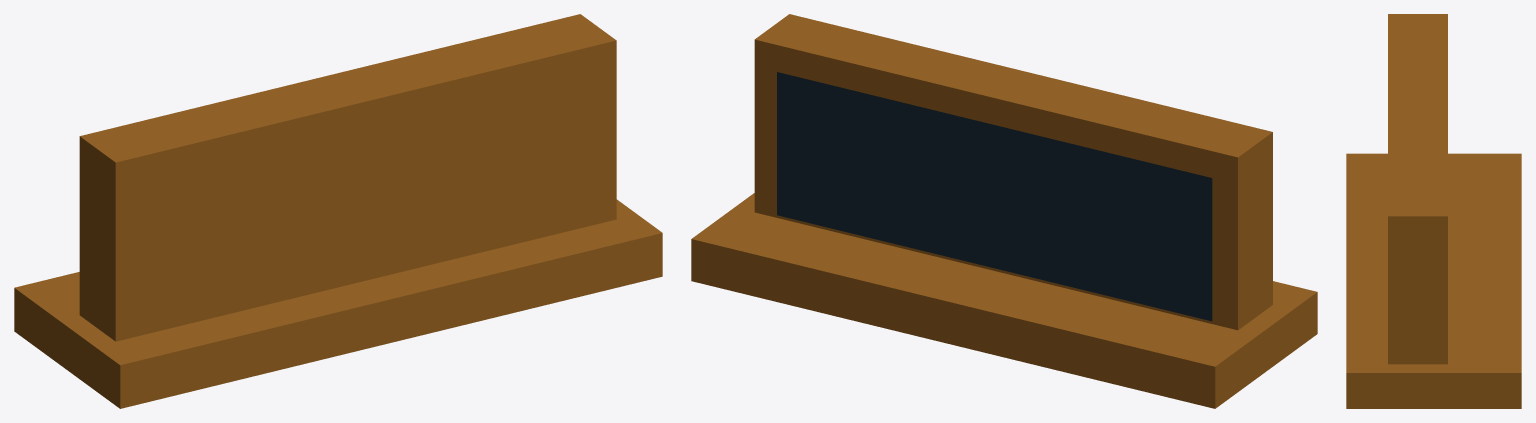
File: next_sign.obj
3 renders of one model, left to right at view 1: azimuth 30°, elevation 25°; view 2: azimuth 150°, elevation 25°; view 3: azimuth 270°, elevation 25°, orthographic. The views are drawn at different scales.
Parts seen in each view (by area): view 1: sign_casing, sign_base; view 2: runtime_next, sign_base, sign_casing; view 3: sign_base, sign_casing.
Part boxes in pixels (x1,y1,x2,y2): sign_casing: [79, 14, 616, 341]; sign_base: [14, 199, 662, 408]; runtime_next: [777, 72, 1212, 321]; sign_base: [691, 193, 1317, 408]; sign_casing: [754, 14, 1272, 330]; sign_base: [1346, 153, 1521, 408]; sign_casing: [1388, 14, 1447, 364].
Bounding box in the file's own units: 0.65 × 0.255 × 0.22.
